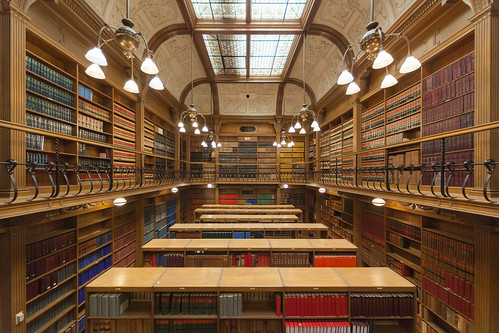bookshelve: (315, 66, 481, 184), (17, 69, 184, 183), (7, 199, 141, 333), (357, 200, 489, 333), (88, 280, 407, 333), (193, 131, 313, 186), (139, 245, 361, 272), (176, 223, 334, 244), (141, 190, 196, 249), (319, 193, 354, 241)
